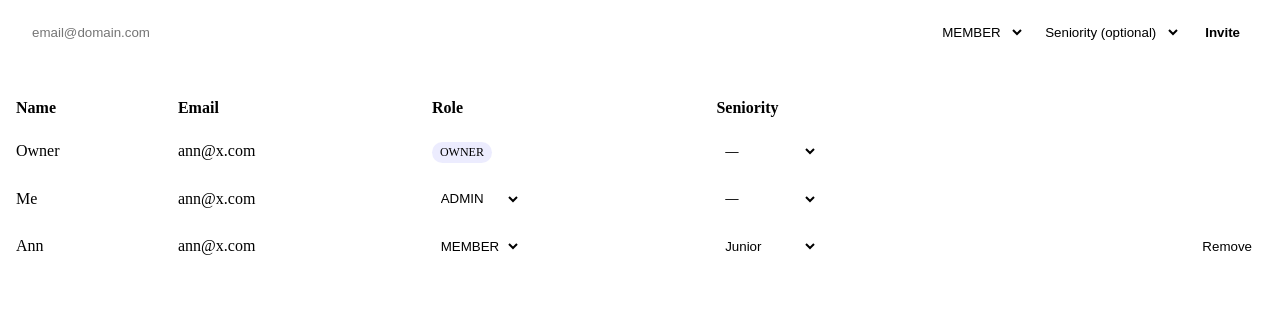
Scenario: MembersPanel › shows an error when inviting an email without an account
The width and height of the screenshot is (1280, 322).
Type "new@x.com" into the field with placeholder "email@domain.com" at (473,32), box [24,17,922,48]
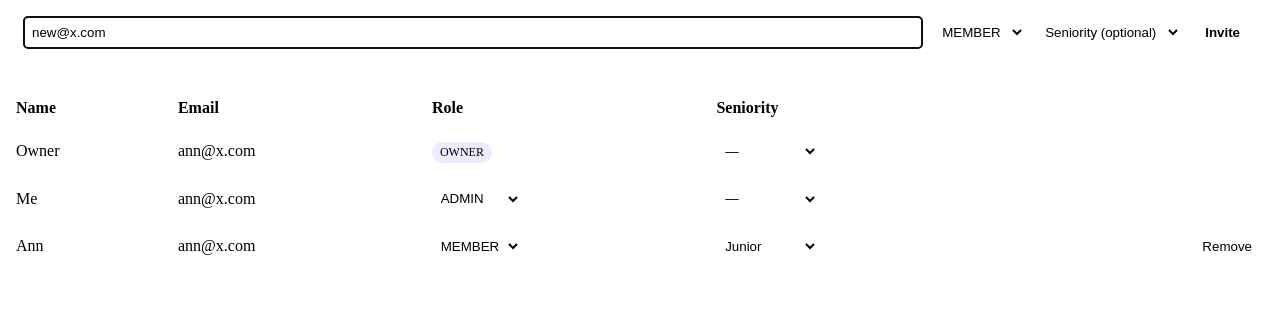
Click the button "Invite" at (1223,32), box [1189,17,1256,48]
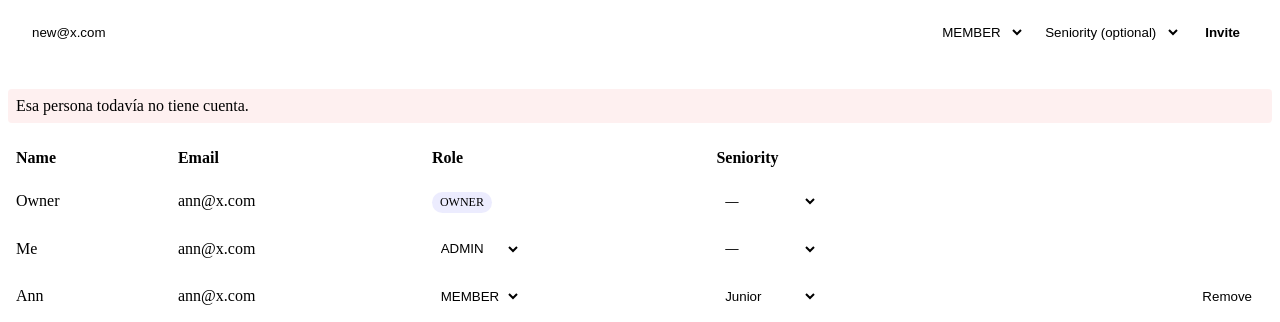
Now the text "Esa persona todavía no tiene cuenta." is shown, box [8,89,1272,123]
